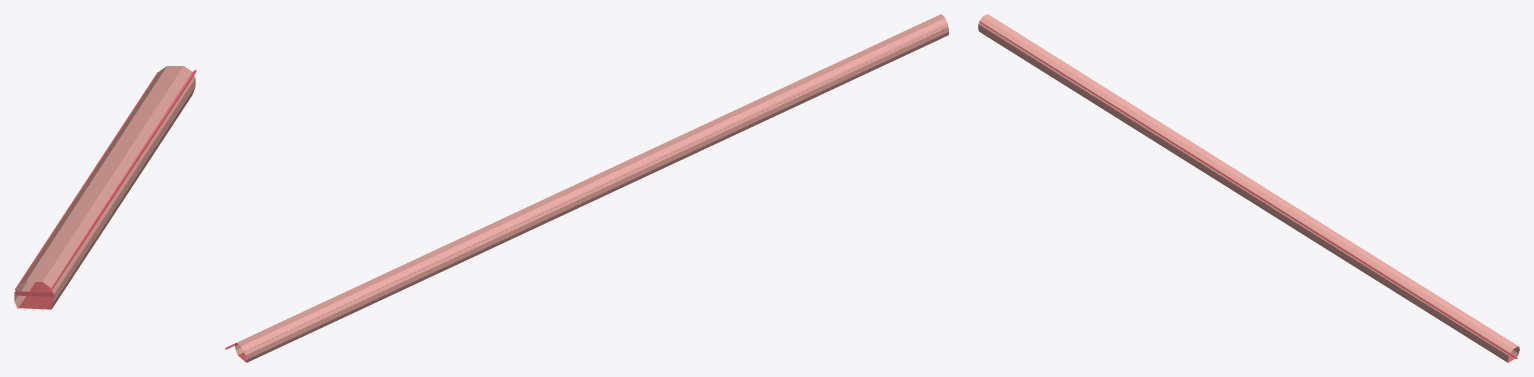
File: SPARC_Scene3 2-5 straight.fbx
3 views of the same model, side by side, from view 1: azimuth 30°, elevation 25°; view 2: azimuth 150°, elevation 25°; view 3: azimuth 270°, elevation 25° (orthographic). The views are drawn at different scales.
Visible parts, largest first — view 1: Track, Veins.race; view 2: Track; view 3: Track, Veins.race.
Boxes of the visible parts, left/top/right/bottom form: Track: left=14, top=66, right=195, bottom=310; Veins.race: left=14, top=69, right=196, bottom=291; Track: left=235, top=14, right=948, bottom=362; Track: left=978, top=14, right=1519, bottom=362; Veins.race: left=979, top=21, right=1519, bottom=358.
Bounding box in the file's own units: 975 × 478 × 1291.
